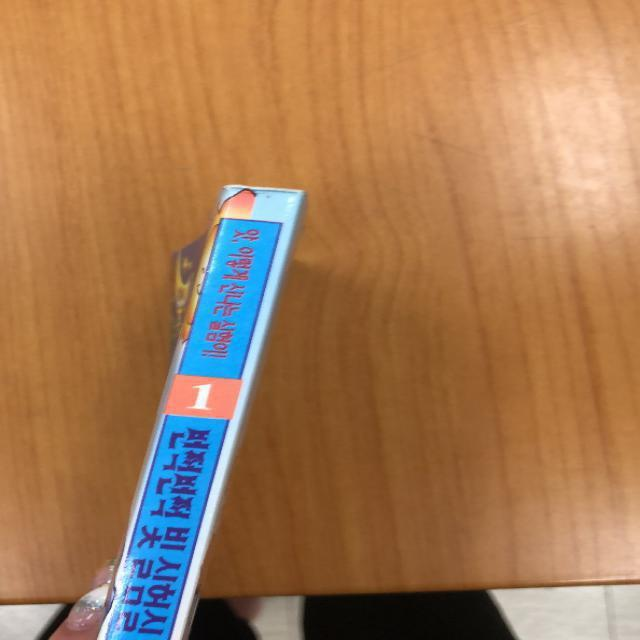Wornout: (219, 179, 310, 202)
